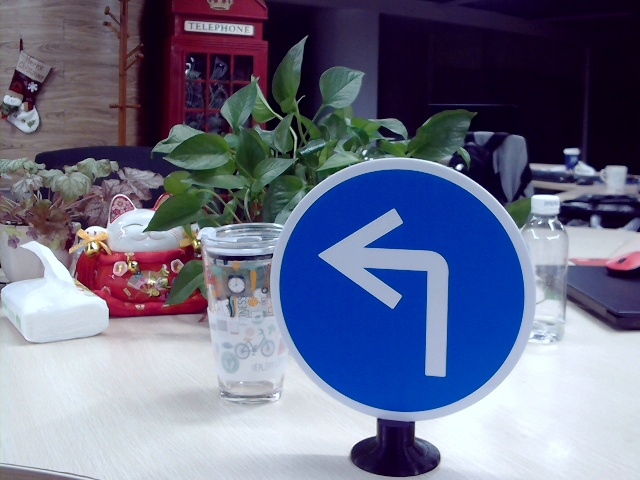turn_left: (317, 205, 458, 385)
